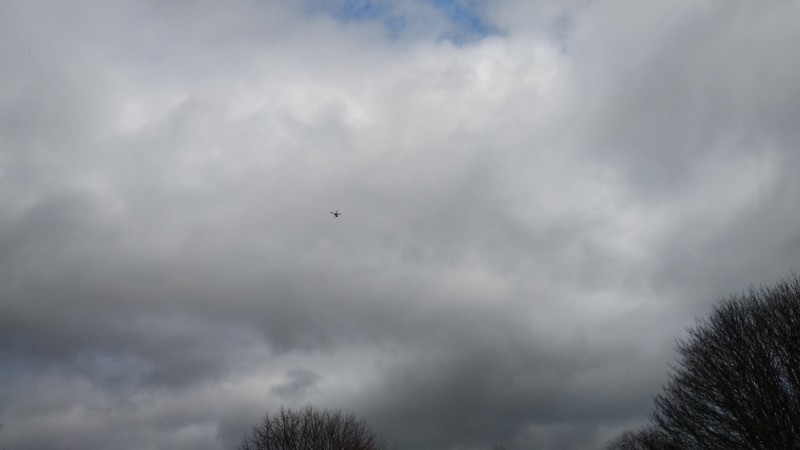drone: (331, 210, 342, 219)
